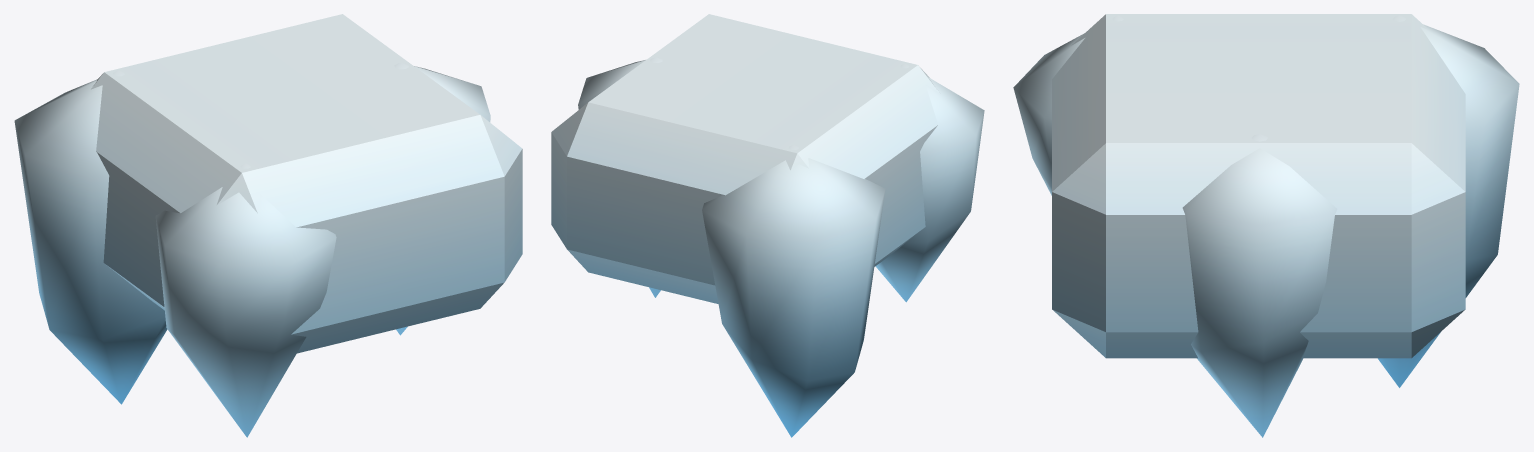
Rendered from m_deco_floorSnow_mini.FBX.
The picture shows the model from 3 angles, left to right: view 1: azimuth 30°, elevation 25°; view 2: azimuth 150°, elevation 25°; view 3: azimuth 270°, elevation 25°; orthographic projection. The views are drawn at different scales.
Visible parts, largest first — view 1: m_deco_floorSnow_mini; view 2: m_deco_floorSnow_mini; view 3: m_deco_floorSnow_mini.
Boxes of the visible parts, x1,y1,x2,y2 form: m_deco_floorSnow_mini: [14, 14, 522, 437]; m_deco_floorSnow_mini: [551, 14, 984, 437]; m_deco_floorSnow_mini: [1013, 14, 1519, 437].
Bounding box in the file's own units: 1.43 × 1.17 × 1.44.
